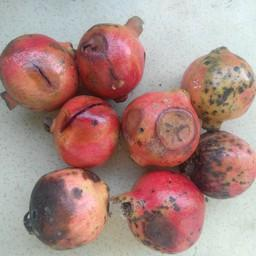Bad_pomegranate: (23, 165, 114, 253), (119, 171, 206, 254), (179, 47, 255, 128), (73, 22, 150, 99), (122, 90, 197, 168), (3, 23, 74, 105), (48, 99, 118, 169), (186, 130, 251, 197)
